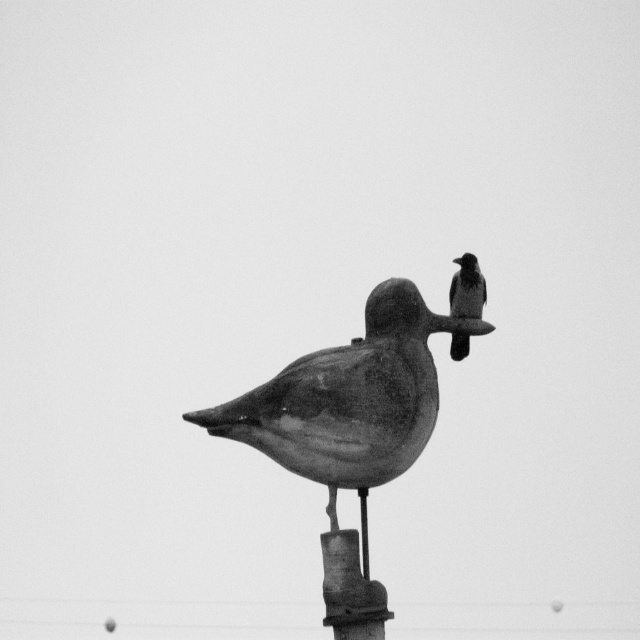Duck: (186, 276, 496, 527)
